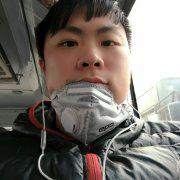WRONG: (46, 25, 132, 128)
